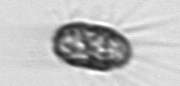plankton: (49, 18, 139, 76)
